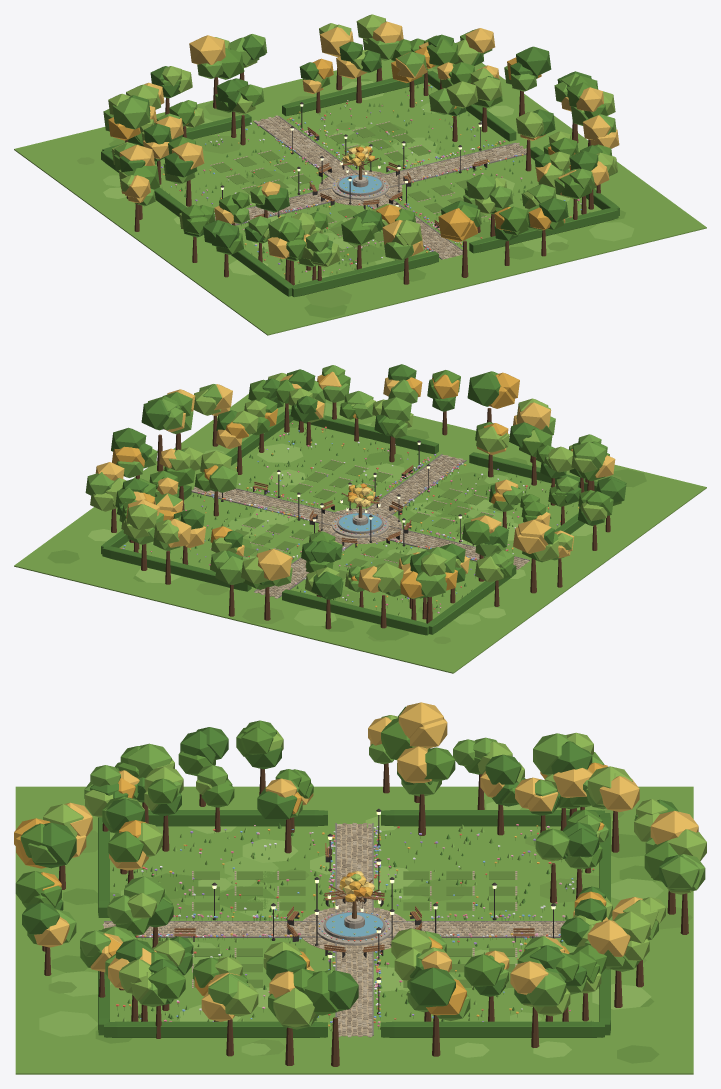
The model's file is village_park.glb.
3 views of the same model, one above another, from view 1: azimuth 30°, elevation 25°; view 2: azimuth 150°, elevation 25°; view 3: azimuth 270°, elevation 25° (orthographic). The views are drawn at different scales.
Parts seen in each view (by area): view 1: village_park; view 2: village_park; view 3: village_park.
Part boxes in pixels (box(x1,y1,x2,y2)): village_park: box(14, 14, 706, 335); village_park: box(14, 364, 706, 673); village_park: box(14, 702, 706, 1074).
Bounding box in the file's own units: 47.7 × 7.5 × 47.02.
